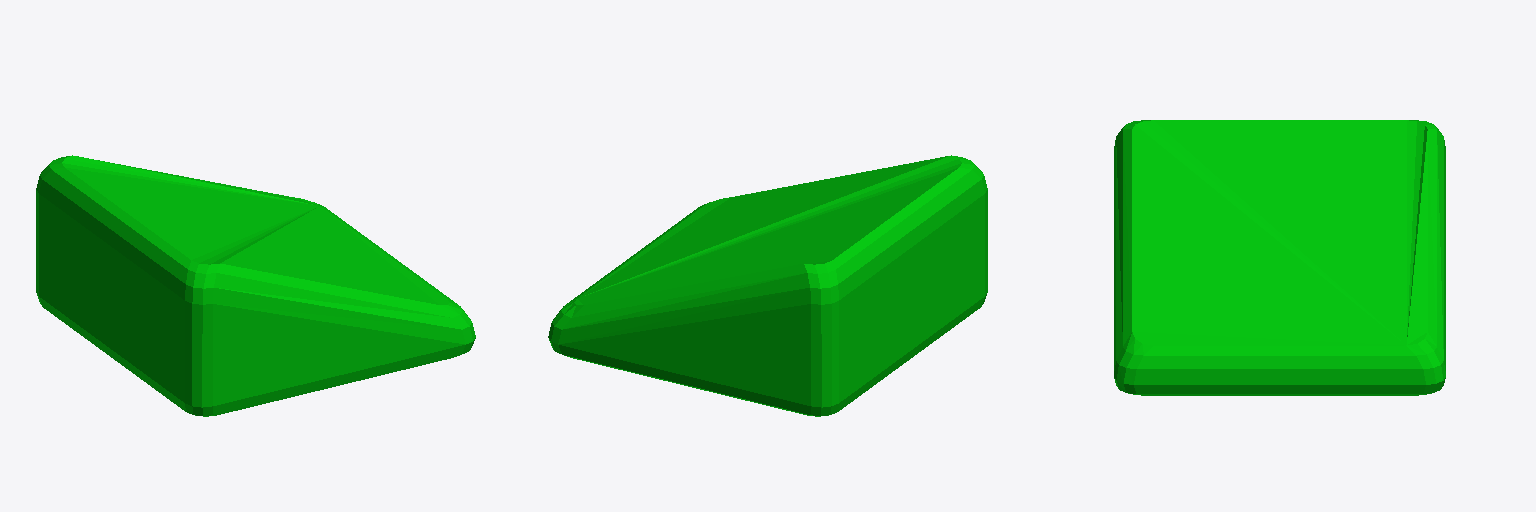
File: tile_ramp.obj
The picture shows the model from 3 angles: view 1: azimuth 30°, elevation 25°; view 2: azimuth 150°, elevation 25°; view 3: azimuth 270°, elevation 25°; orthographic projection.
Parts seen in each view (by area): view 1: tile_ramp_Cube.016; view 2: tile_ramp_Cube.016; view 3: tile_ramp_Cube.016.
Boxes of the visible parts, x1,y1,x2,y2 form: tile_ramp_Cube.016: [36, 155, 475, 416]; tile_ramp_Cube.016: [548, 155, 987, 416]; tile_ramp_Cube.016: [1114, 120, 1445, 395].
Bounding box in the file's own units: 1.03 × 0.5 × 1.03.